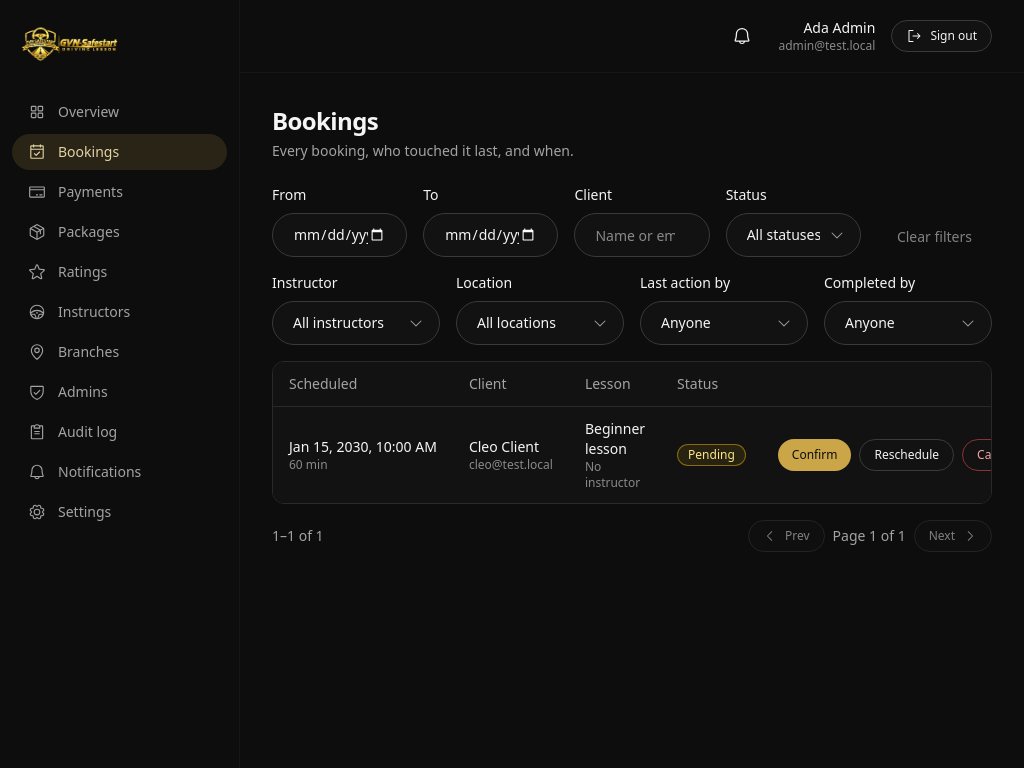
it: bookings › reschedules a booking and refreshes the list
The image size is (1024, 768).
Click the button with aria-label "Reschedule booking for Cleo Client".
click(907, 455)  # box [860, 439, 954, 471]
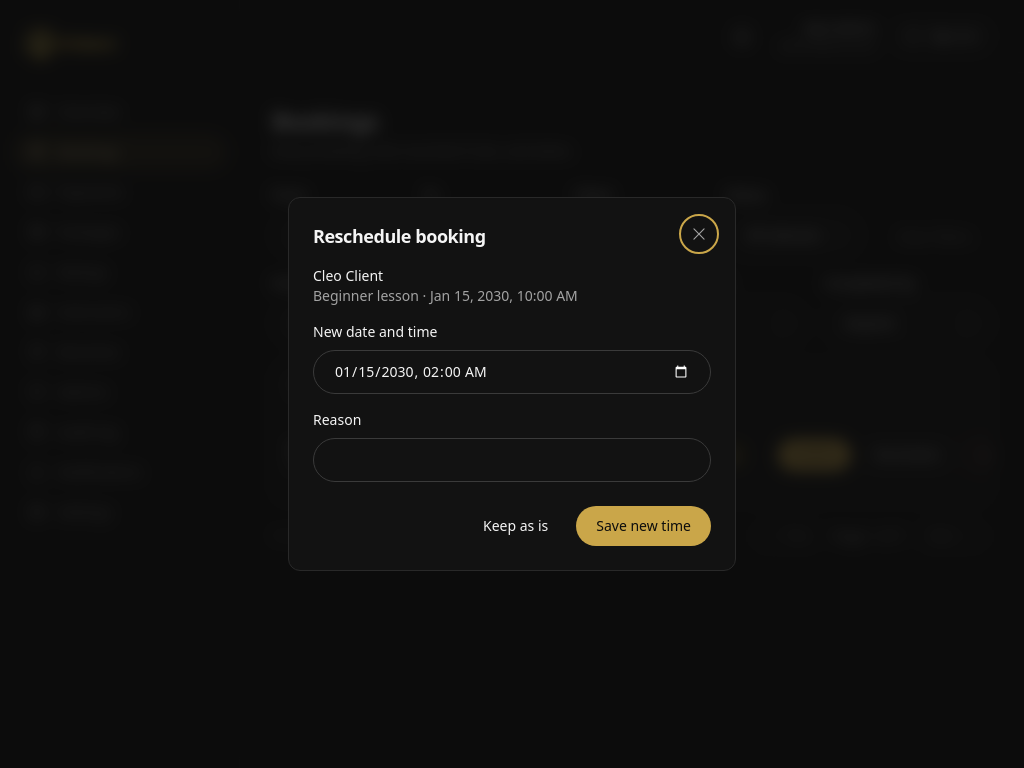
Replace the text in the field labelled "New date and time" with "2031-03-04T09:30" at x=512, y=372, box [313, 350, 711, 394]
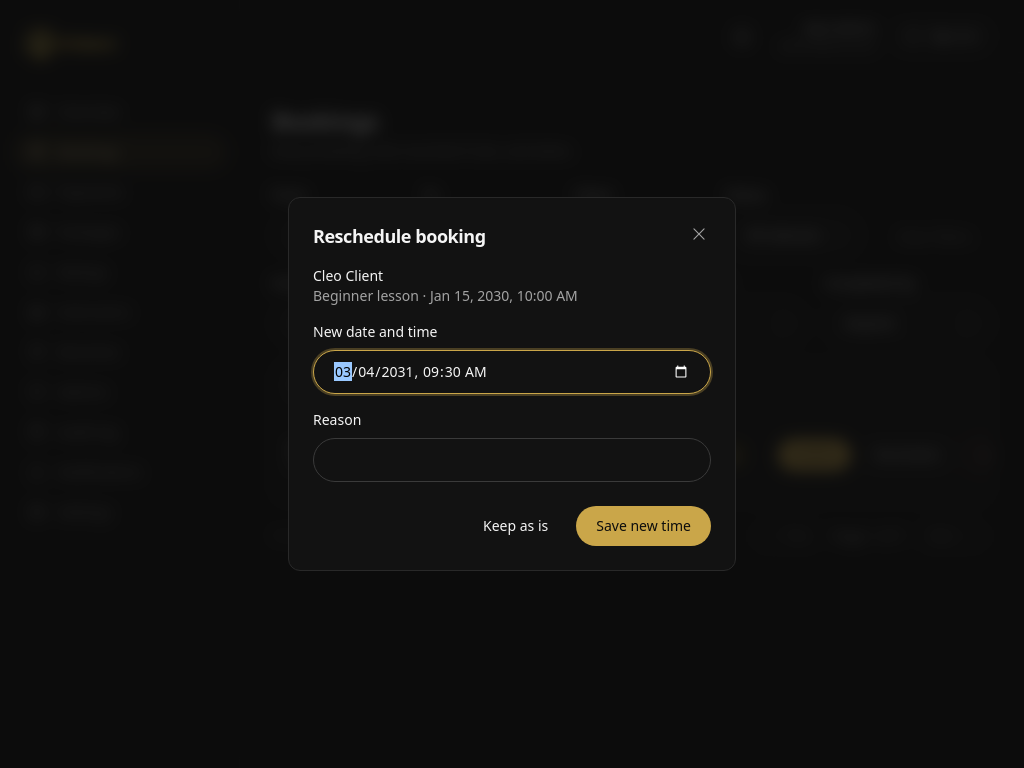
Click the button "Save new time".
click(644, 526)  # box [576, 506, 711, 546]
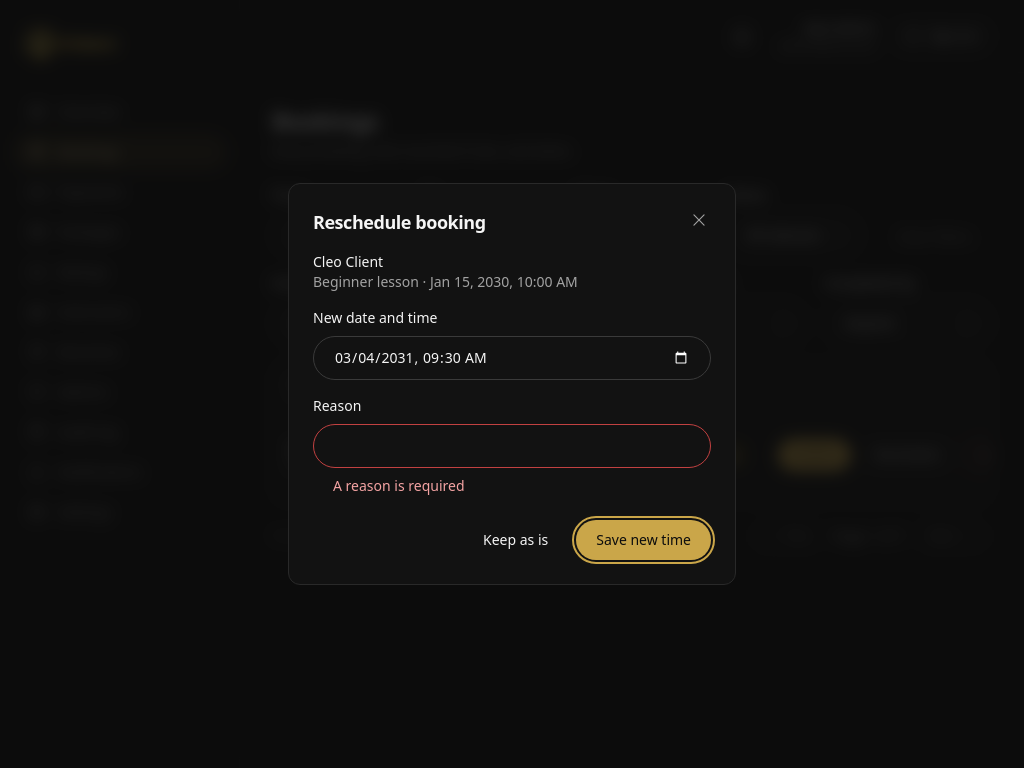
Result: the text "A reason is required" is shown at [333, 476, 464, 495]
Type "Branch closed" into the field labelled "Reason".
click(512, 446); type("Branch closed")  # box [313, 424, 711, 468]
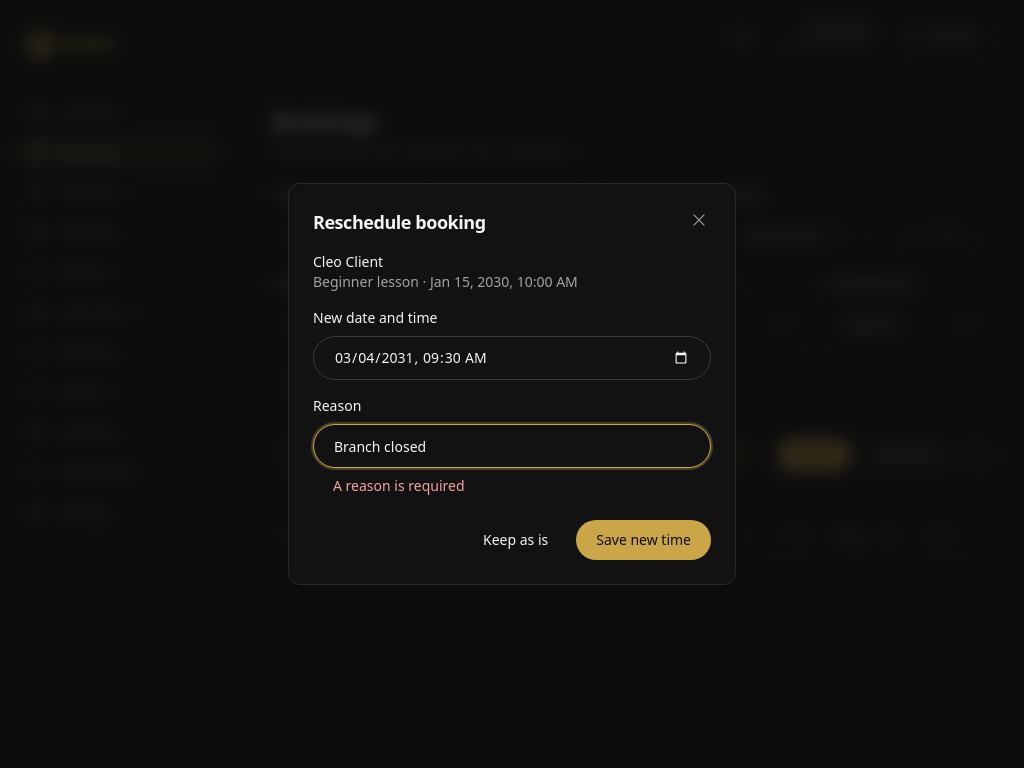
Click the button "Save new time".
click(644, 540)  # box [576, 520, 711, 560]
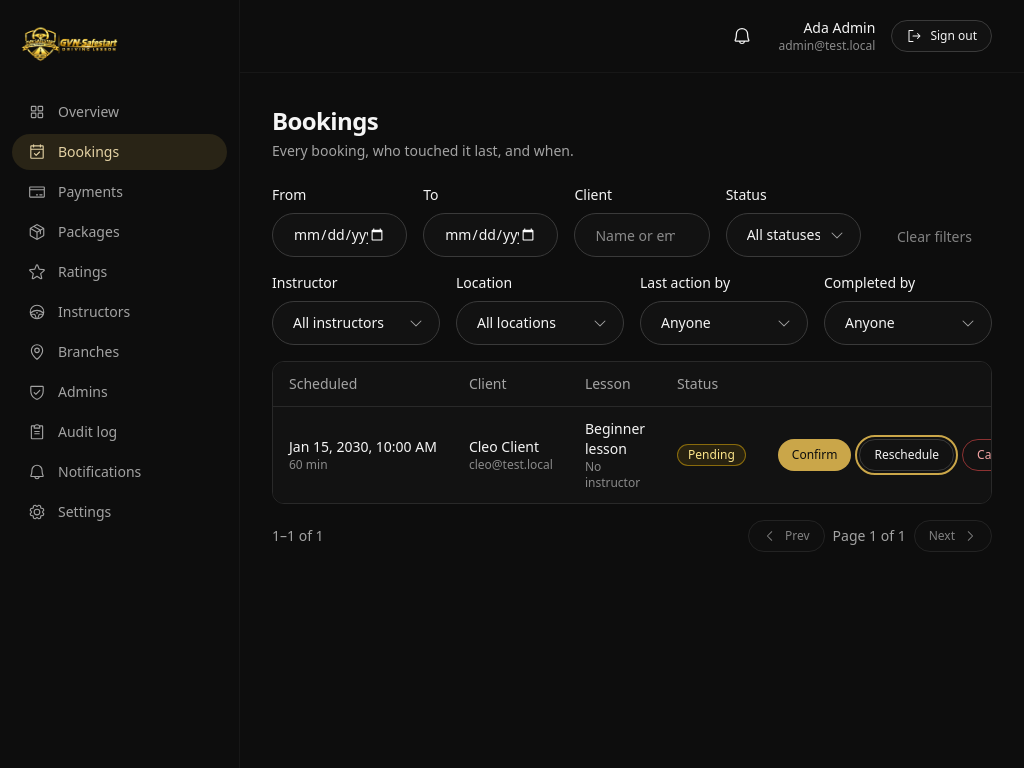
Result: the dialog is gone
